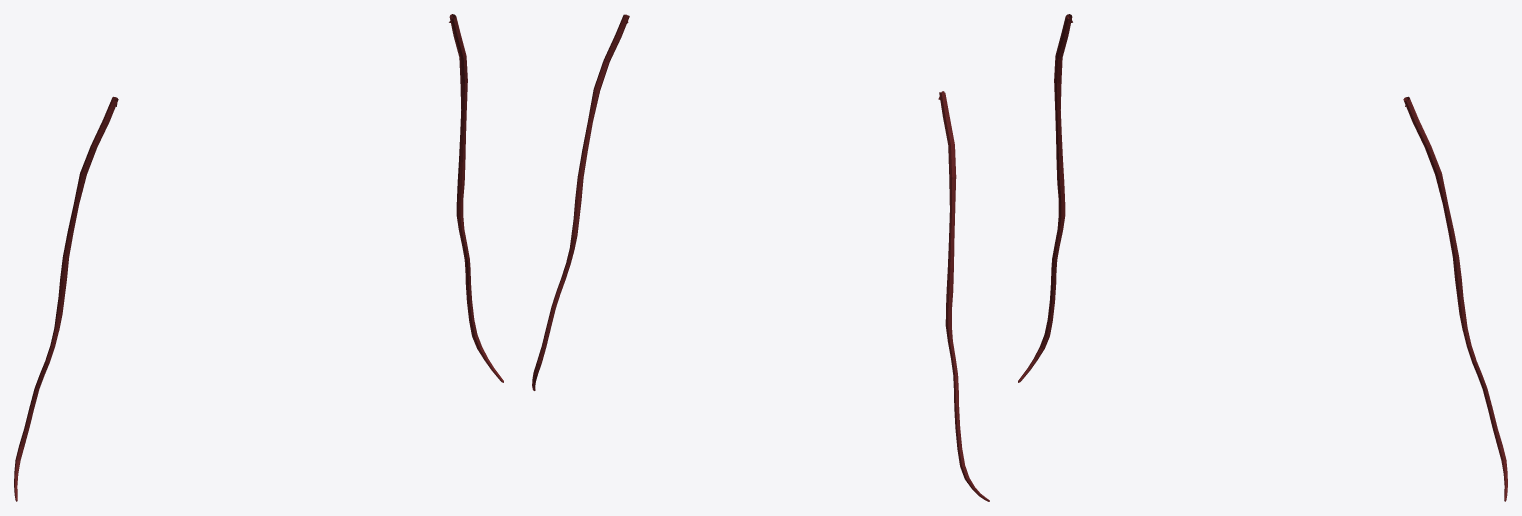
File: Artéria Peronea.FBX
The picture shows the model from 3 angles, left to right: view 1: azimuth 30°, elevation 25°; view 2: azimuth 150°, elevation 25°; view 3: azimuth 330°, elevation 25°; orthographic projection. The views are drawn at different scales.
Visible parts, largest first — view 1: CS_Arterie; view 2: CS_Arterie; view 3: CS_Arterie.
Part boxes in pixels (x1,y1,x2,y2): CS_Arterie: [14, 14, 503, 501]; CS_Arterie: [532, 14, 989, 501]; CS_Arterie: [1018, 14, 1507, 501].
Bounding box in the file's own units: 1372 × 1084 × 189.
